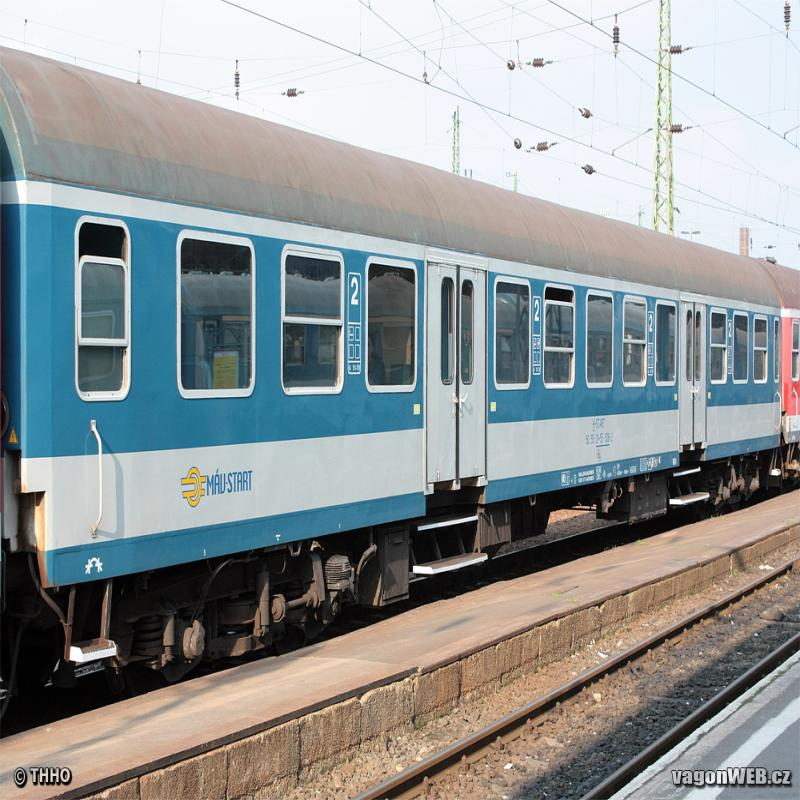train: (1, 42, 787, 736)
